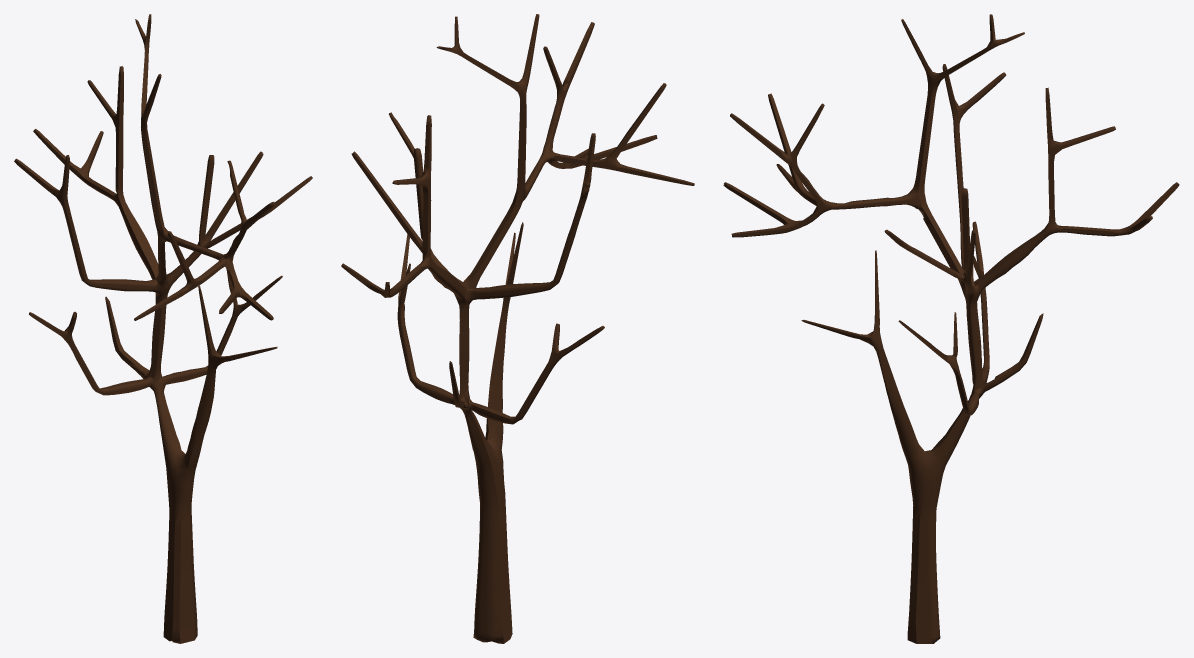
The model's file is DeadTree.fbx.
3 views of the same model, side by side, from view 1: azimuth 30°, elevation 25°; view 2: azimuth 150°, elevation 25°; view 3: azimuth 270°, elevation 25° (orthographic). The views are drawn at different scales.
Visible parts, largest first — view 1: DeadTree; view 2: DeadTree; view 3: DeadTree.
Boxes of the visible parts, x1,y1,x2,y2 form: DeadTree: (14, 14, 312, 643); DeadTree: (341, 14, 694, 643); DeadTree: (723, 14, 1179, 643).
Bounding box in the file's own units: 1735 × 4093 × 2715.
